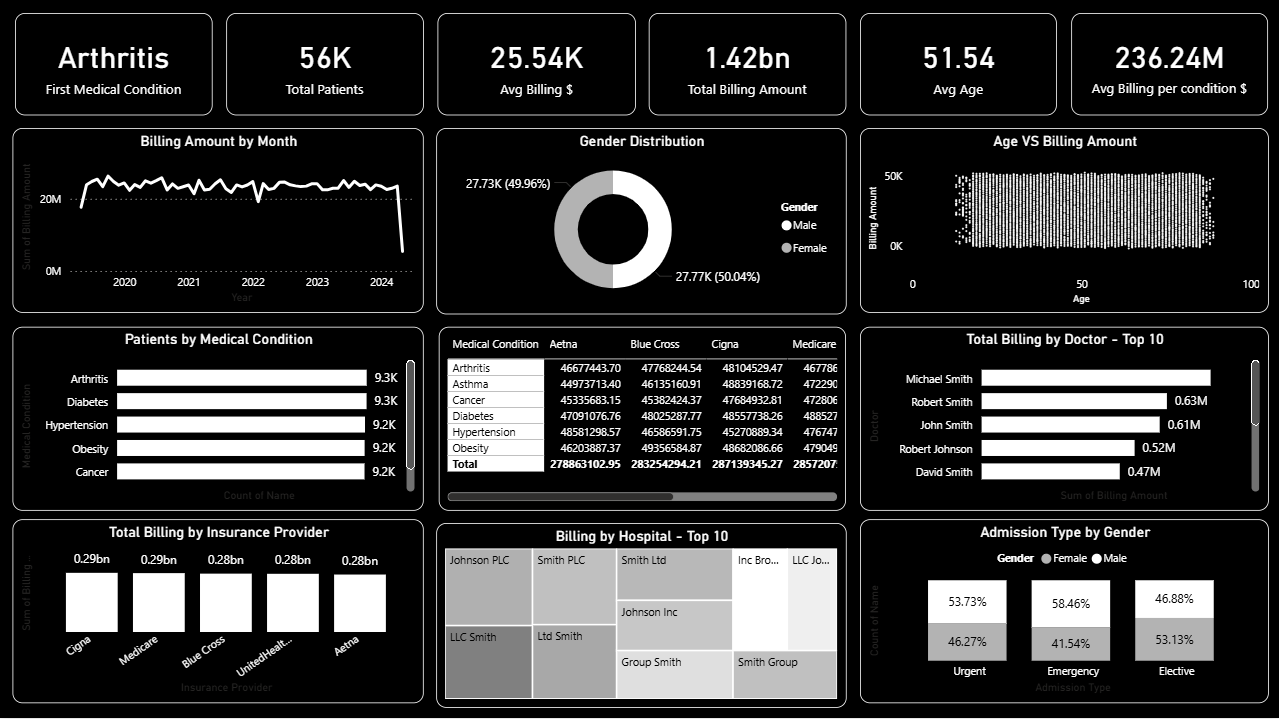

What the dashboard file says about the page in this screenshot:
{"tool":"powerbi","page":{"name":"Page 1","canvas":[1280,720],"ordinal":0},"visuals":[{"type":"card","fields":{"Values":["healthcare_dataset.Medical Condition"]},"box":[15,15,197.5,102.5],"z":0},{"type":"card","fields":{"Values":["healthcare_dataset.Total Patients"]},"box":[226.2,15,197.5,102.5],"z":1000},{"type":"card","fields":{"Values":["healthcare_dataset.Avg Billing"]},"box":[437.5,15,198.8,102.5],"z":2000},{"type":"card","fields":{"Values":["healthcare_dataset.Total Billing Amount"]},"box":[648.8,15,197.5,102.5],"z":3000},{"type":"card","fields":{"Values":["healthcare_dataset.Avg Age"]},"box":[860,15,197,102.5],"z":4000},{"type":"card","fields":{"Values":["healthcare_dataset.Avg Billing per condition $"]},"box":[1071.3,15.3,197,102],"z":5000},{"type":"lineChart","title":"Billing Amount by Month","fields":{"Y":["healthcare_dataset.Billing Amount"],"Category":["healthcare_dataset.Date of Admission.Variation.Date Hierarchy.Year","healthcare_dataset.Date of Admission.Variation.Date Hierarchy.Month"]},"box":[12.5,130,411.2,185],"z":6000},{"type":"clusteredBarChart","title":"Patients by Medical Condition","fields":{"Category":["healthcare_dataset.Medical Condition"],"Y":["healthcare_dataset.Name"]},"box":[12.5,328.8,411.2,183.8],"z":7000},{"type":"clusteredColumnChart","title":"Total Billing by Insurance Provider","fields":{"Category":["healthcare_dataset.Insurance Provider"],"Y":["healthcare_dataset.Billing Amount"]},"box":[12.5,521.2,411.2,183.8],"z":8000},{"type":"clusteredBarChart","title":"Total Billing by Doctor - Top 10","fields":{"Category":["healthcare_dataset.Doctor"],"Y":["healthcare_dataset.Billing Amount"]},"box":[860,328.8,408.8,183.8],"z":9000},{"type":"hundredPercentStackedColumnChart","title":"Admission Type by Gender","fields":{"Category":["healthcare_dataset.Admission Type"],"Y":["healthcare_dataset.Name"],"Series":["healthcare_dataset.Gender"]},"box":[860,521.2,408.8,183.8],"z":10000},{"type":"donutChart","title":"Gender Distribution","fields":{"Category":["healthcare_dataset.Gender"],"Y":["healthcare_dataset.Name"]},"box":[436.2,130,410,186.2],"z":11000},{"type":"scatterChart","title":"Age VS Billing Amount","fields":{"X":["healthcare_dataset.Age"],"Y":["healthcare_dataset.Billing Amount"]},"box":[860,130,408.8,185],"z":12000},{"type":"treemap","title":"Billing by Hospital - Top 10","fields":{"Group":["healthcare_dataset.Hospital"],"Values":["healthcare_dataset.Billing Amount"]},"box":[436.2,525,410,185],"z":13000},{"type":"pivotTable","fields":{"Rows":["healthcare_dataset.Medical Condition"],"Columns":["healthcare_dataset.Insurance Provider"],"Values":["healthcare_dataset.Billing Amount"]},"box":[438.8,328.8,407.5,183.8],"z":14000}]}

Visuals, with their boxes in screenshot pixels (x1, y1, x2, y2), scaled from the page's 1280x720 canvas onto the 1279x719 screenshot:
card - healthcare_dataset.Medical Condition: l=15, t=15, r=212, b=117
card - healthcare_dataset.Total Patients: l=226, t=15, r=423, b=117
card - healthcare_dataset.Avg Billing: l=437, t=15, r=636, b=117
card - healthcare_dataset.Total Billing Amount: l=648, t=15, r=846, b=117
card - healthcare_dataset.Avg Age: l=859, t=15, r=1056, b=117
card - healthcare_dataset.Avg Billing per condition $: l=1070, t=15, r=1267, b=117
"Billing Amount by Month" lineChart: l=12, t=130, r=423, b=315
"Patients by Medical Condition" clusteredBarChart: l=12, t=328, r=423, b=512
"Total Billing by Insurance Provider" clusteredColumnChart: l=12, t=520, r=423, b=704
"Total Billing by Doctor - Top 10" clusteredBarChart: l=859, t=328, r=1268, b=512
"Admission Type by Gender" hundredPercentStackedColumnChart: l=859, t=520, r=1268, b=704
"Gender Distribution" donutChart: l=436, t=130, r=846, b=316
"Age VS Billing Amount" scatterChart: l=859, t=130, r=1268, b=315
"Billing by Hospital - Top 10" treemap: l=436, t=524, r=846, b=709
pivotTable - healthcare_dataset.Medical Condition x healthcare_dataset.Insurance Provider: l=438, t=328, r=846, b=512
